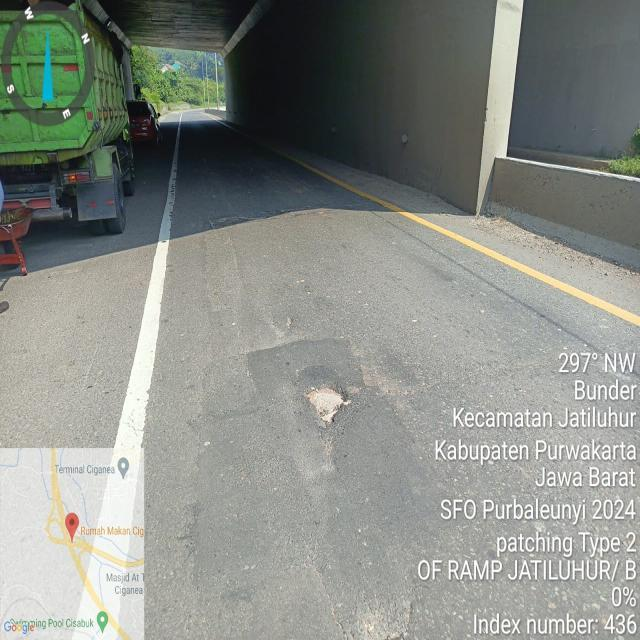Buraco: (300, 380, 356, 428)
